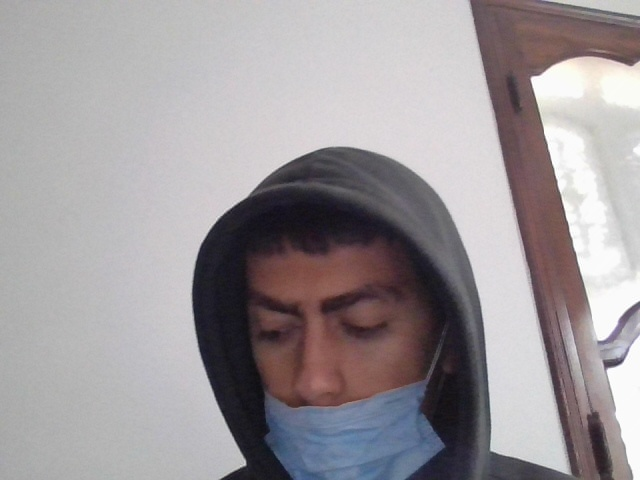mask_weared_incorrect: (241, 186, 465, 479)
